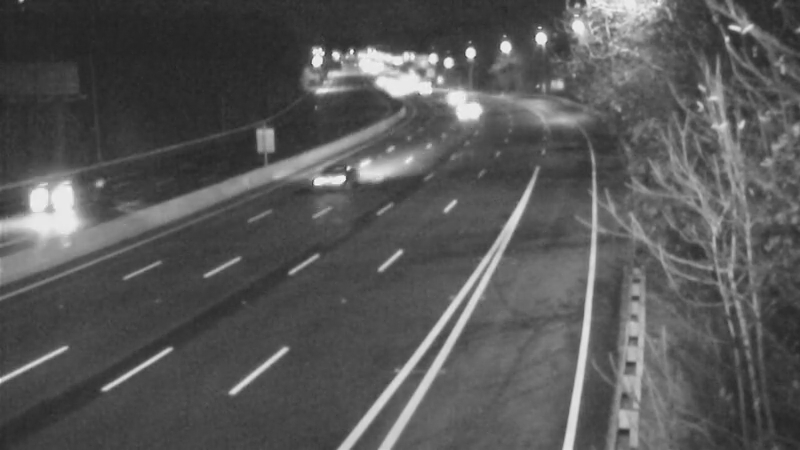vehicle: (293, 139, 373, 219), (15, 161, 95, 241), (402, 59, 452, 109), (427, 70, 477, 120), (442, 88, 492, 138)
